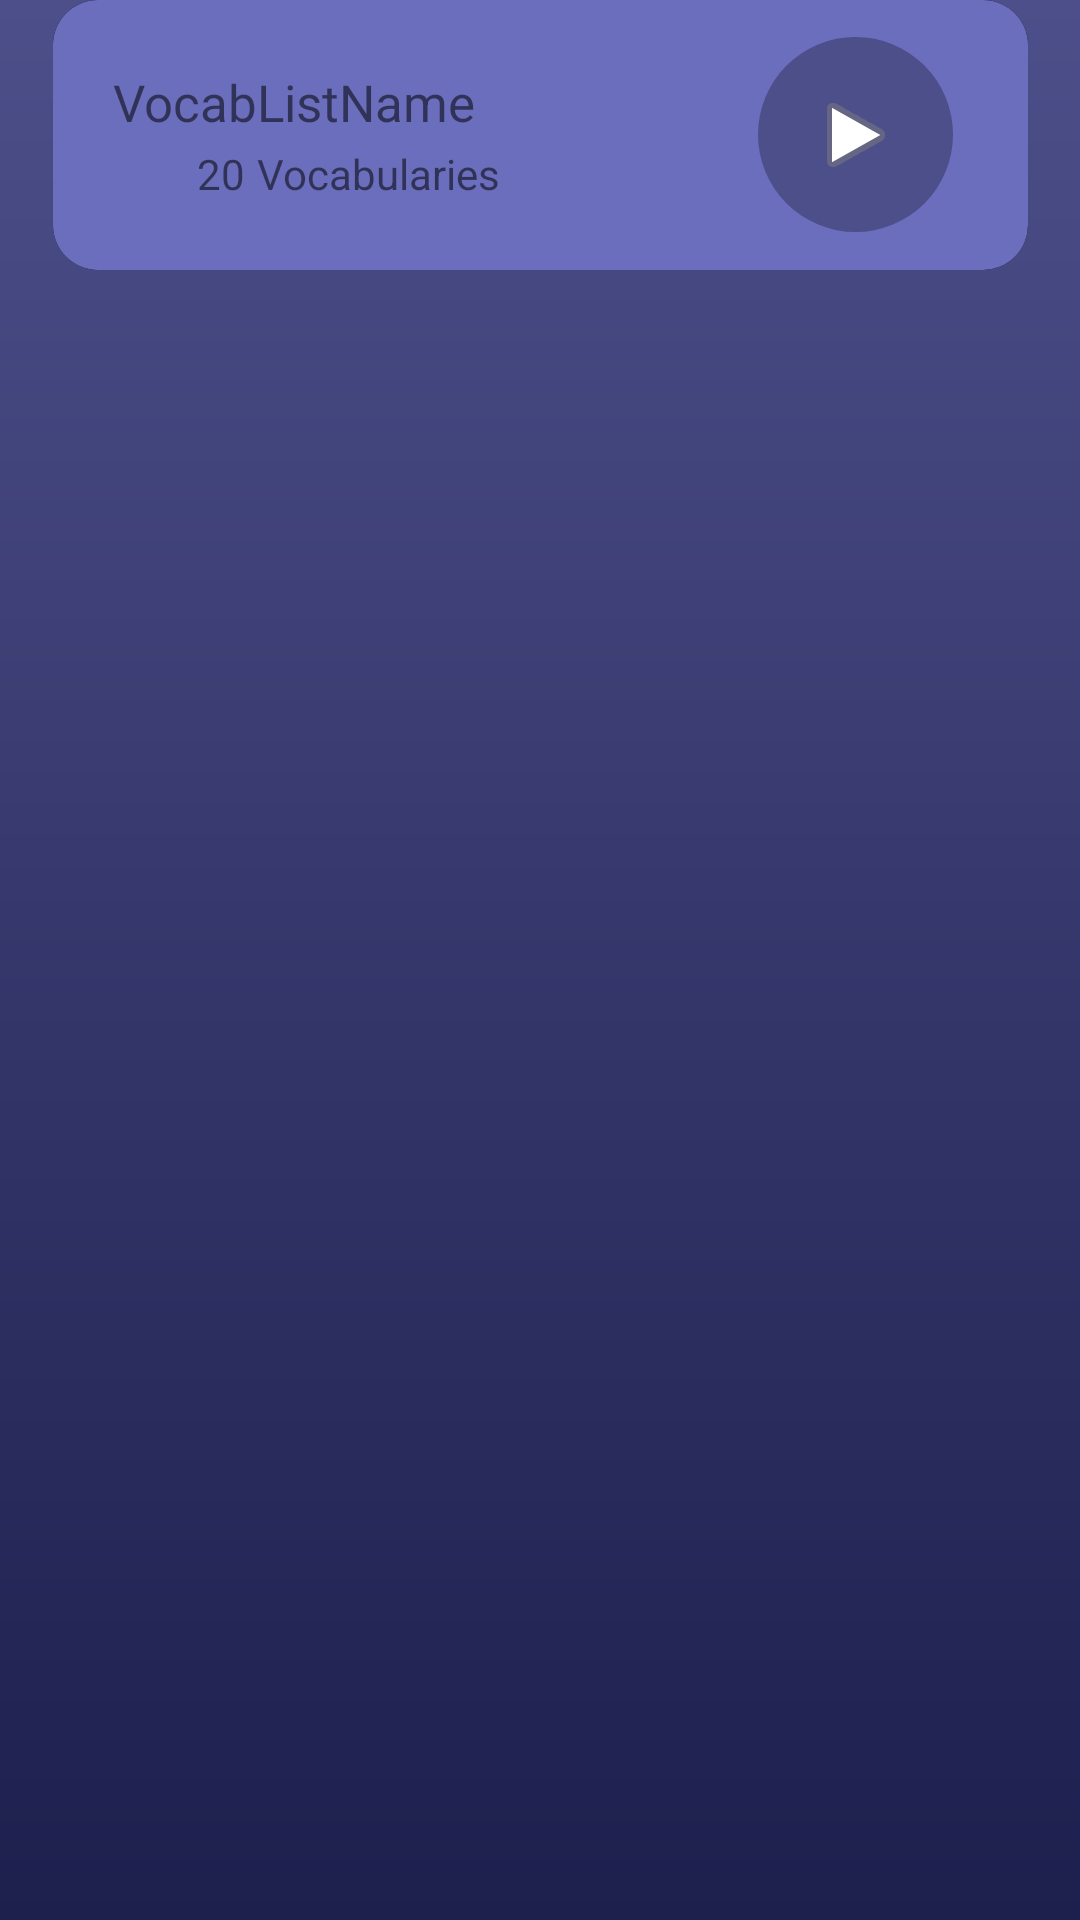

Where icons sit on this 1080 × 1920 app screen, as {"x1": x1, "y1": y1, "x2": x2, "y2": y2}:
play: {"x1": 758, "y1": 37, "x2": 953, "y2": 232}
